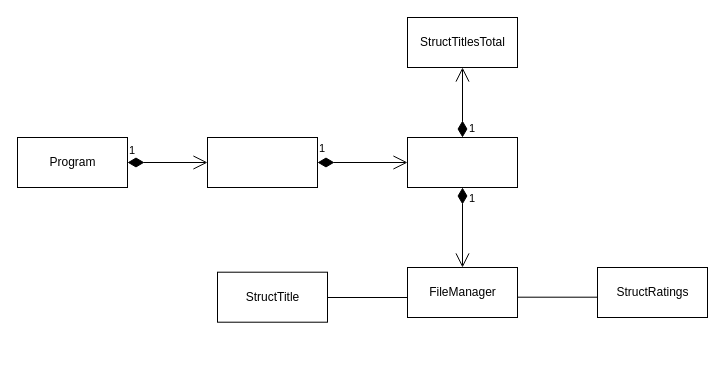
This 725x369 diagram has some shape labels left out. Here are the shapes that lost their labels. From the top down, the box of each, then its label:
(206, 136, 318, 188): Menu
(406, 136, 518, 188): Searcher
